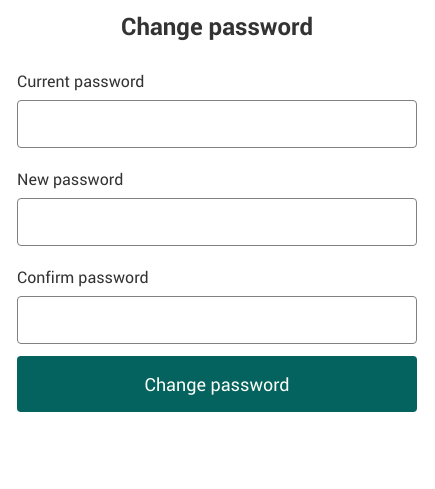
it: New password input with invalid input
Type "password123" into the password field labelled "New password".
click(217, 222); type("password123")  # box [17,198,417,246]
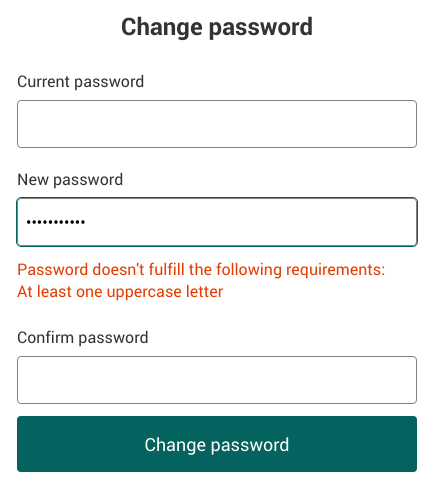
Now the text "Password doesn't fulfill" is shown, box [17,258,385,302]
